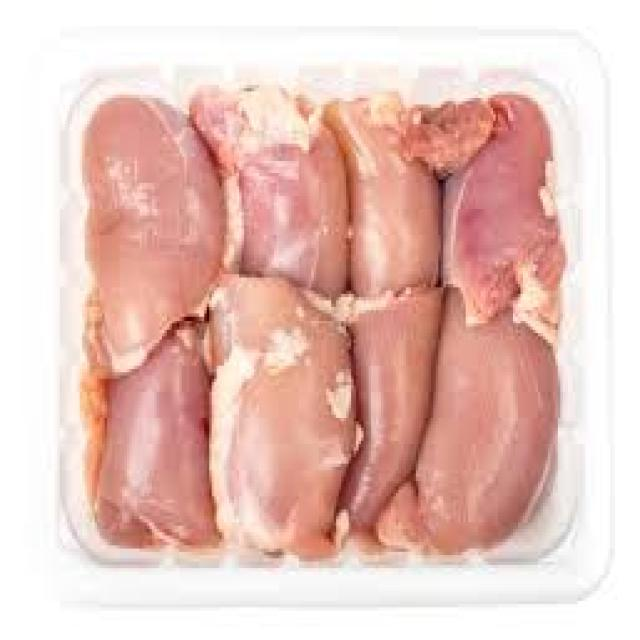thigh: (202, 266, 368, 604), (82, 74, 223, 360), (212, 74, 356, 296), (85, 344, 215, 541), (335, 68, 440, 300)
